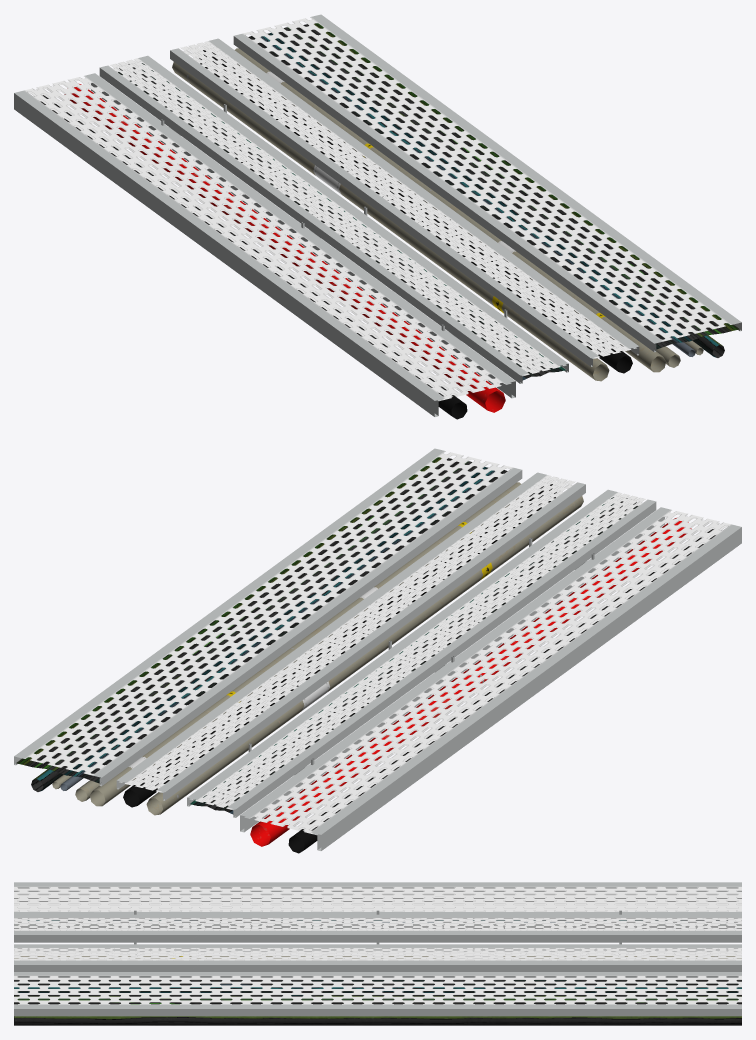
Rendered from SM_Pipes.fbx.
3 renders of one model, top to bottom at view 1: azimuth 30°, elevation 25°; view 2: azimuth 150°, elevation 25°; view 3: azimuth 270°, elevation 25°, orthographic. The views are drawn at different scales.
Parts seen in each view (by area): view 1: SM_Pipes_LOD0; view 2: SM_Pipes_LOD0; view 3: SM_Pipes_LOD0.
Boxes of the visible parts, x1,y1,x2,y2 form: SM_Pipes_LOD0: (14, 14, 741, 419); SM_Pipes_LOD0: (14, 448, 741, 853); SM_Pipes_LOD0: (14, 882, 741, 1025).
Size of the model in its own units: 295 by 700 by 29.07.
Materials: 1 (1 with a texture image).
